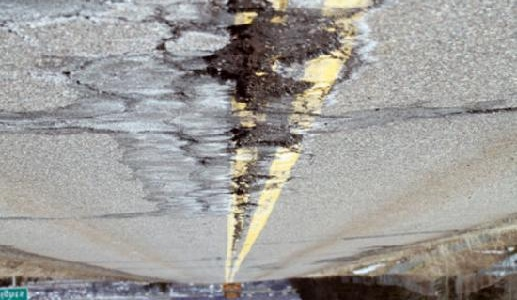pothole: (200, 0, 336, 104), (226, 123, 305, 150)
